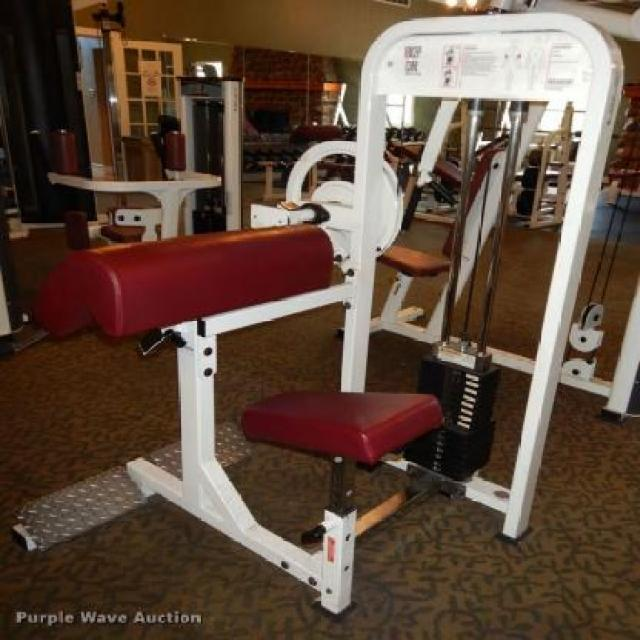arm curl machine: (17, 223, 589, 611)
